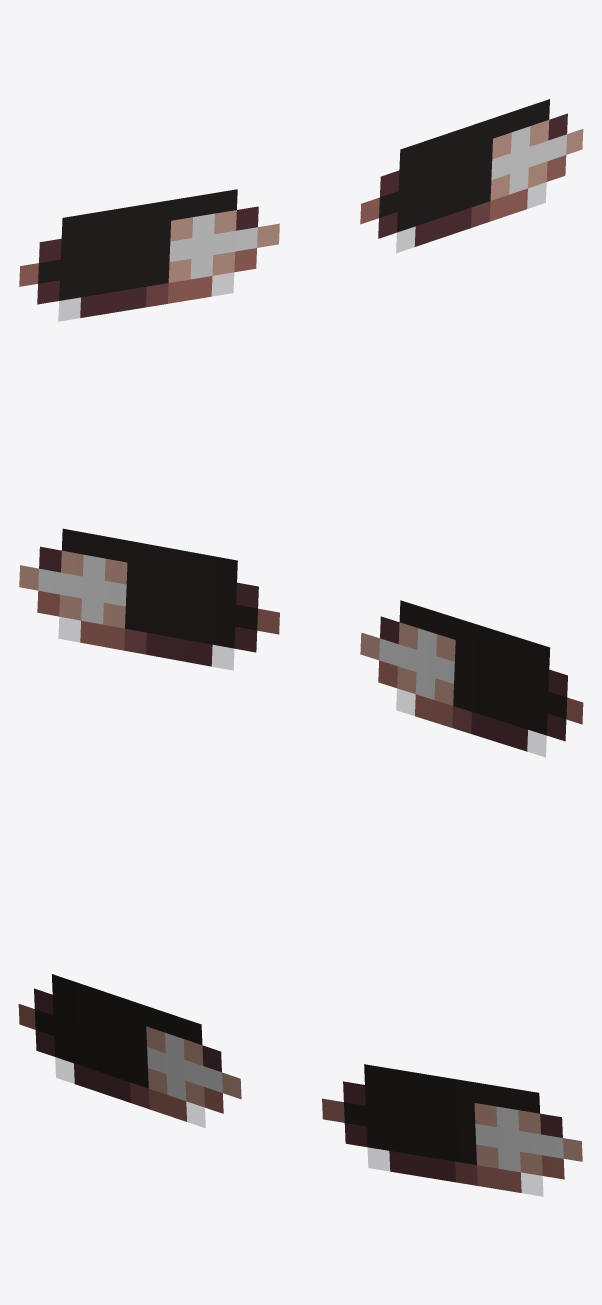
Rendered from shifty_eyes.glb.
The picture shows the model from 3 angles, top to bottom: view 1: azimuth 30°, elevation 25°; view 2: azimuth 150°, elevation 25°; view 3: azimuth 330°, elevation 25°; orthographic projection.
Parts seen in each view (by area): view 1: eyes_plane; view 2: eyes_plane; view 3: eyes_plane.
Boxes of the visible parts, left/top/right/bottom form: eyes_plane: left=19, top=99, right=583, bottom=321; eyes_plane: left=19, top=528, right=583, bottom=756; eyes_plane: left=18, top=974, right=582, bottom=1196.
Bounding box in the file's own units: 0.1834 × 0.0845 × 0.0186.
Materials: 1 (1 with a texture image).
